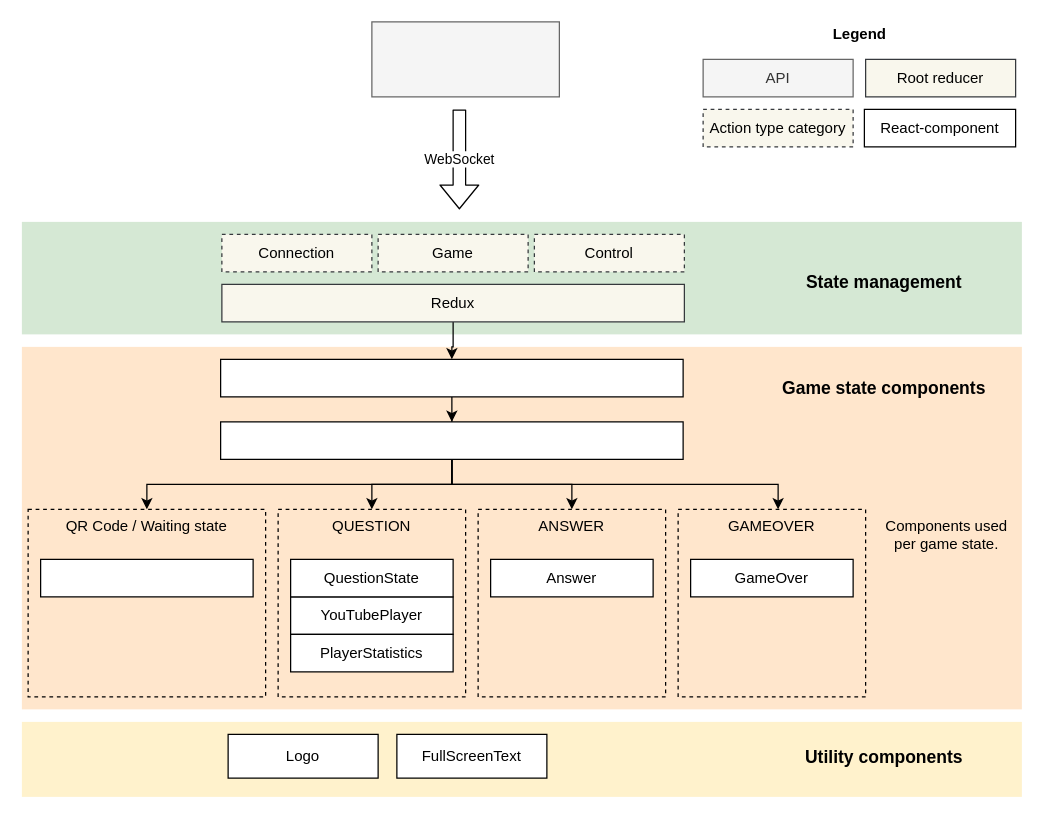
The diagram is 1043 pixels wide and 819 high, and some of its shapes have lost their labels. Here are the shapes that lost their labels. From the top down, the centre of each, then its label:
At point (465, 59): "Django Application".
At point (451, 377): "App".
At point (451, 440): "Dashboard".
At point (146, 577): "QRCode".
